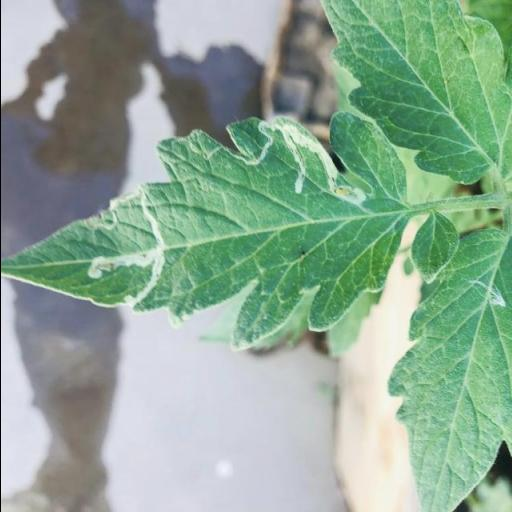disease_tomato: (0, 110, 409, 352)
